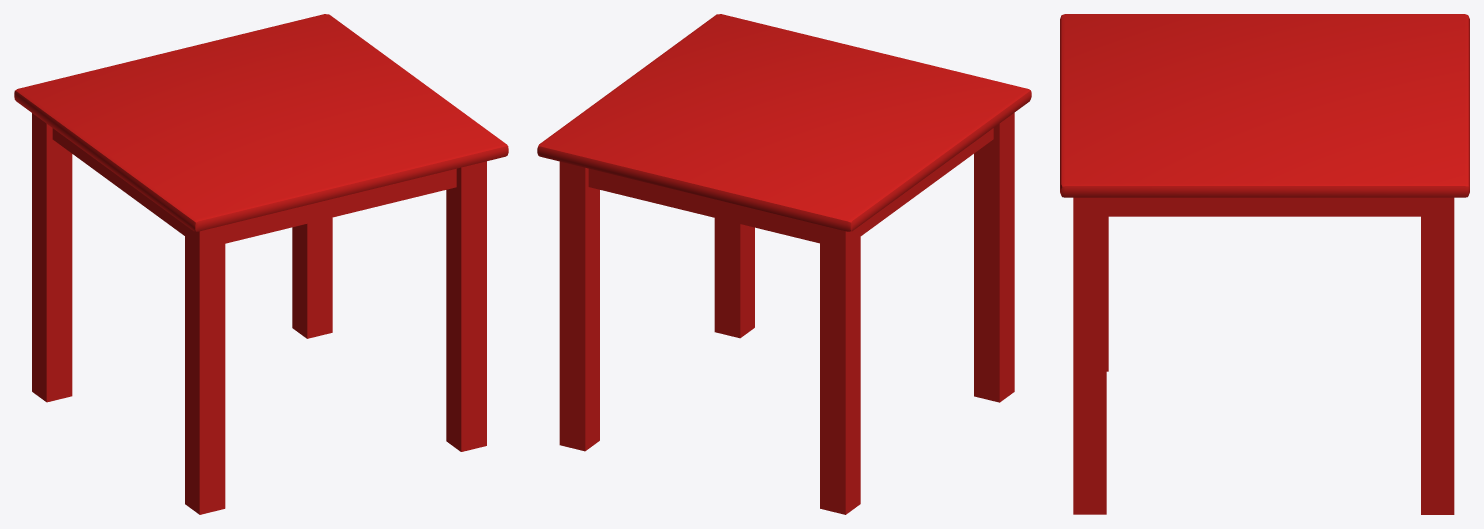
File: Table.fbx
The picture shows the model from 3 angles, left to right: view 1: azimuth 30°, elevation 25°; view 2: azimuth 150°, elevation 25°; view 3: azimuth 270°, elevation 25°; orthographic projection. The views are drawn at different scales.
Parts seen in each view (by area): view 1: table; view 2: table; view 3: table.
Part boxes in pixels (x1,y1,x2,y2): table: (14,14,508,514); table: (537,14,1031,514); table: (1060,14,1469,514).
Bounding box in the file's own units: 57.28 × 52.28 × 57.28.
Materials: 1 (1 with a texture image).
